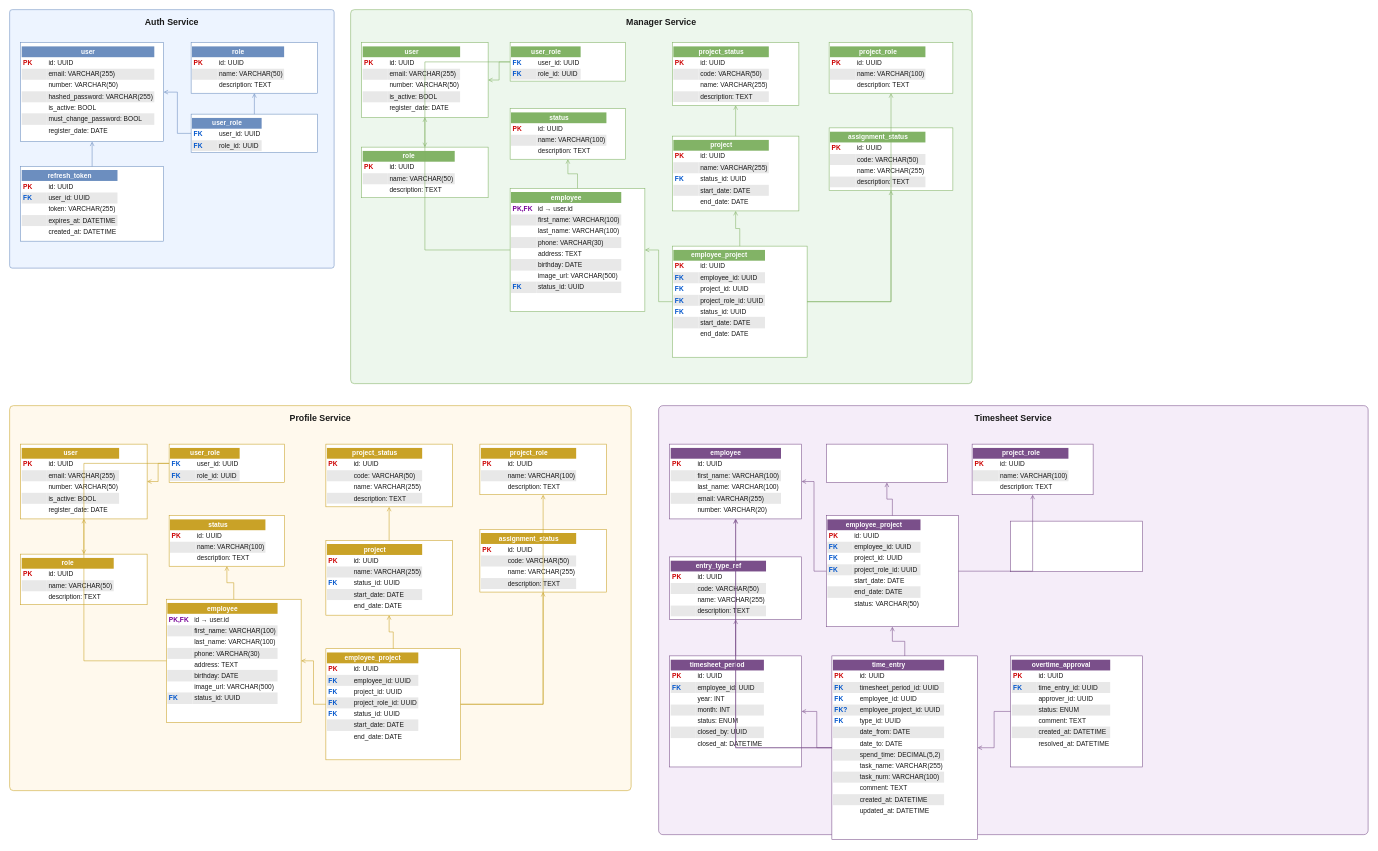
Some shapes in this 1378 by 851 pixel diagram are drawn without their labels. The centre of each missing label's shape, as x and y in pixels:
"production_calendar PK date: DATE day_type: ENUM description: VARCHAR(255)" belongs at (x=1076, y=546).
"project PK id: UUID name: VARCHAR(255)" belongs at (x=886, y=463).
